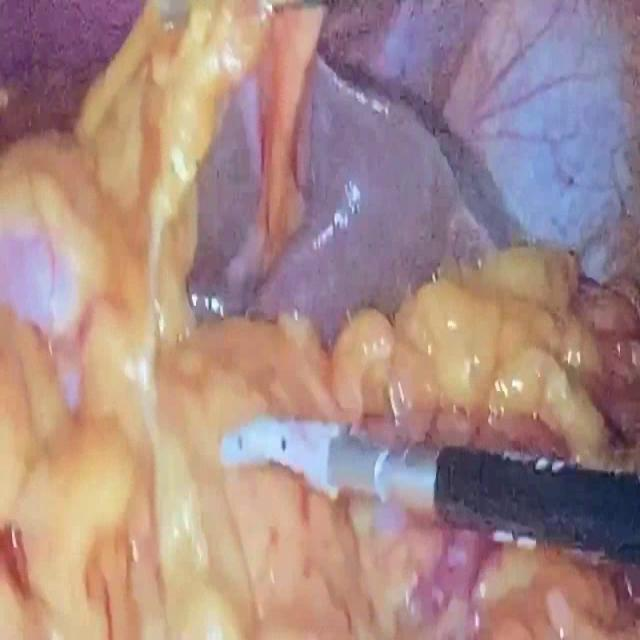surgical-tool: (218, 417, 640, 572)
